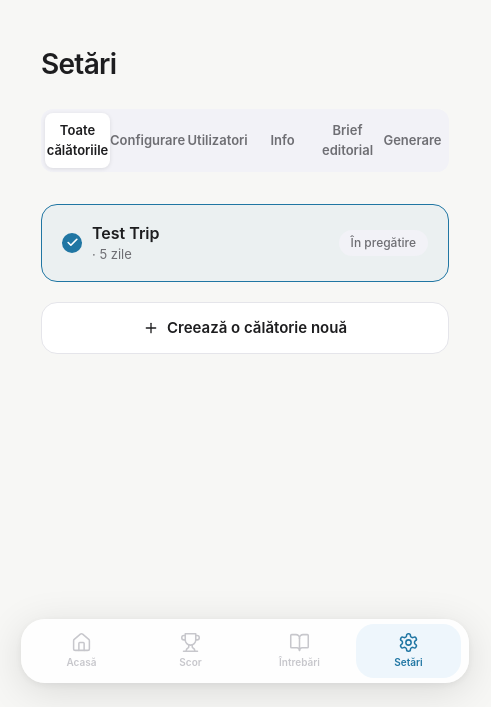
it: R9: Generare tab -- starting generation › an already_running response shows that message
The width and height of the screenshot is (491, 707).
What coordinates should you click on to do the following:
click the button "Generare"
I would click on:
 (412, 140)
Its box is [380,113,445,168].
(page scrolled)
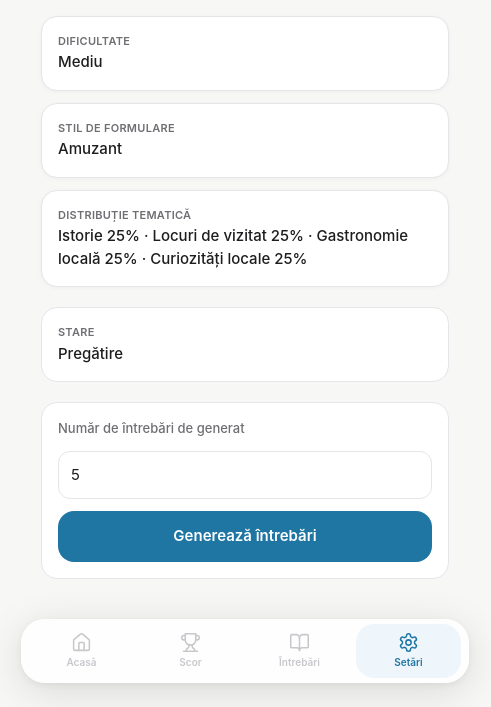
What coordinates should you click on to do the following:
click the button "Generează întrebări"
I would click on:
 (245, 536)
Its box is [58,511,432,562].
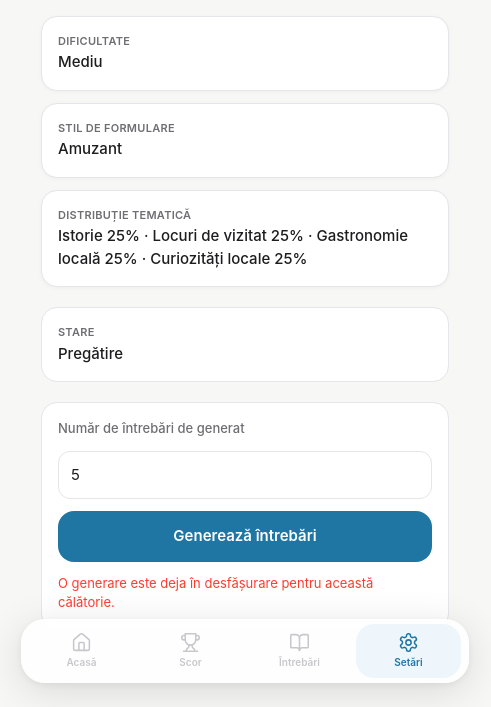
Expected: the text "deja în desfășurare" is shown, [58,574,373,610]
